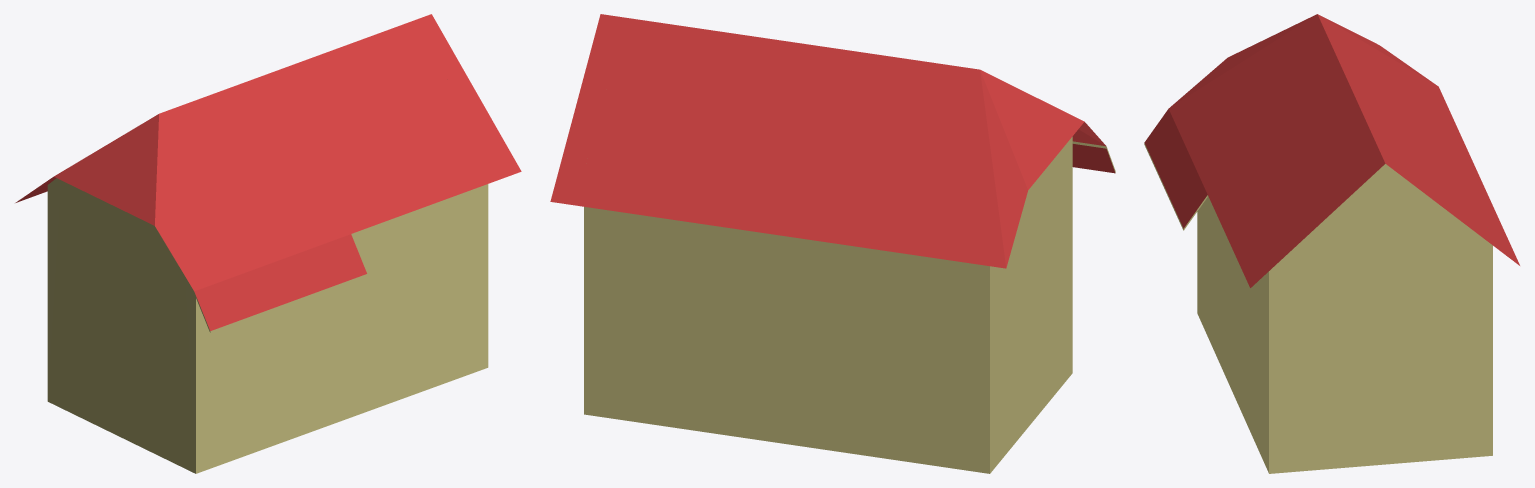
3 renders of one model, left to right at view 1: azimuth 30°, elevation 25°; view 2: azimuth 150°, elevation 25°; view 3: azimuth 270°, elevation 25°, orthographic. The views are drawn at different scales.
Bounding box in the file's own units: 20.19 × 15.9 × 14.51.
